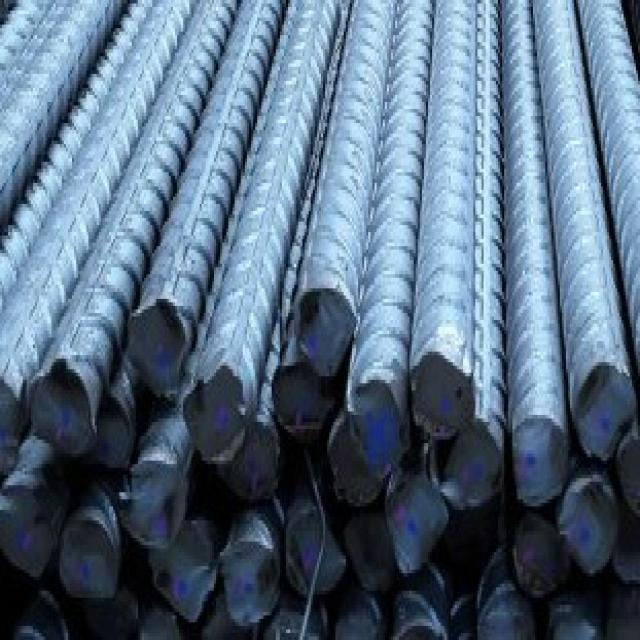Rebar: (430, 410, 503, 511), (391, 463, 452, 574), (296, 282, 359, 383), (574, 358, 638, 456), (562, 471, 619, 580), (129, 298, 185, 408), (162, 512, 217, 620), (325, 410, 384, 510), (32, 366, 97, 454), (192, 356, 245, 463), (412, 349, 475, 439), (515, 406, 574, 502), (226, 408, 282, 509), (340, 490, 395, 591), (288, 502, 346, 596), (221, 533, 282, 621), (125, 456, 182, 550), (275, 356, 332, 450), (349, 378, 403, 473), (64, 513, 121, 602), (519, 508, 574, 597), (3, 489, 50, 582), (83, 577, 138, 640), (200, 595, 265, 640), (100, 388, 134, 472), (478, 594, 541, 639), (14, 592, 70, 640), (132, 596, 191, 640), (616, 423, 640, 525), (1, 376, 23, 474), (270, 602, 324, 640), (395, 604, 450, 640), (333, 603, 382, 639), (614, 574, 639, 640), (553, 610, 605, 640), (456, 608, 484, 640)
